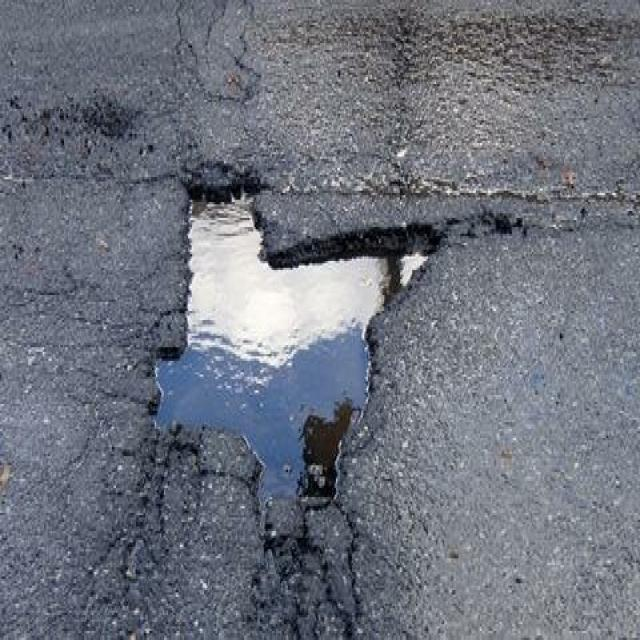Pothole: (70, 134, 534, 542)
